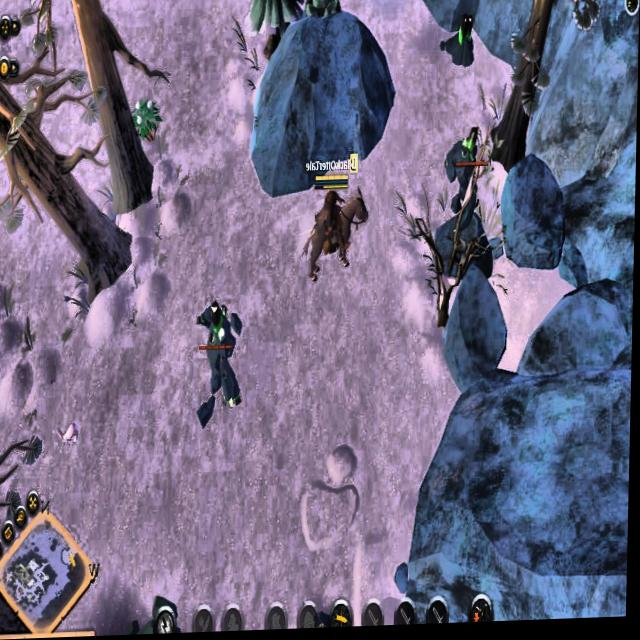sandstone: (124, 592, 193, 636), (302, 0, 349, 28)
tinore: (441, 12, 479, 75)
